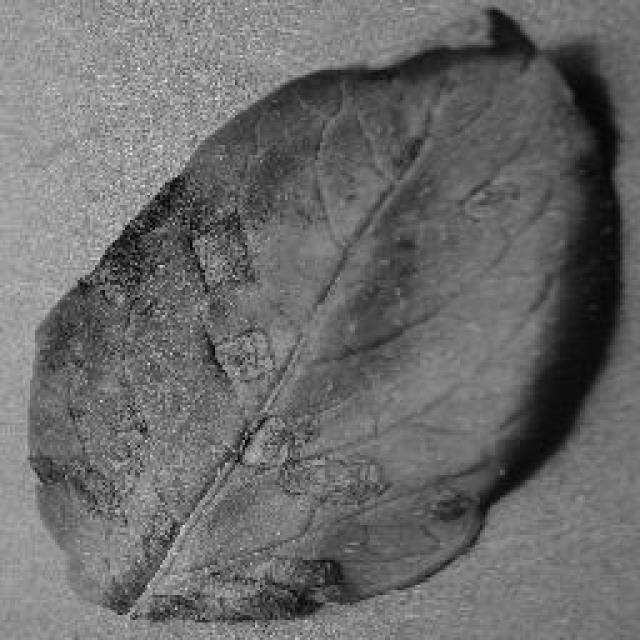Potato: (22, 5, 622, 623)
